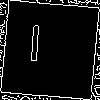I: (24, 25, 45, 72)
